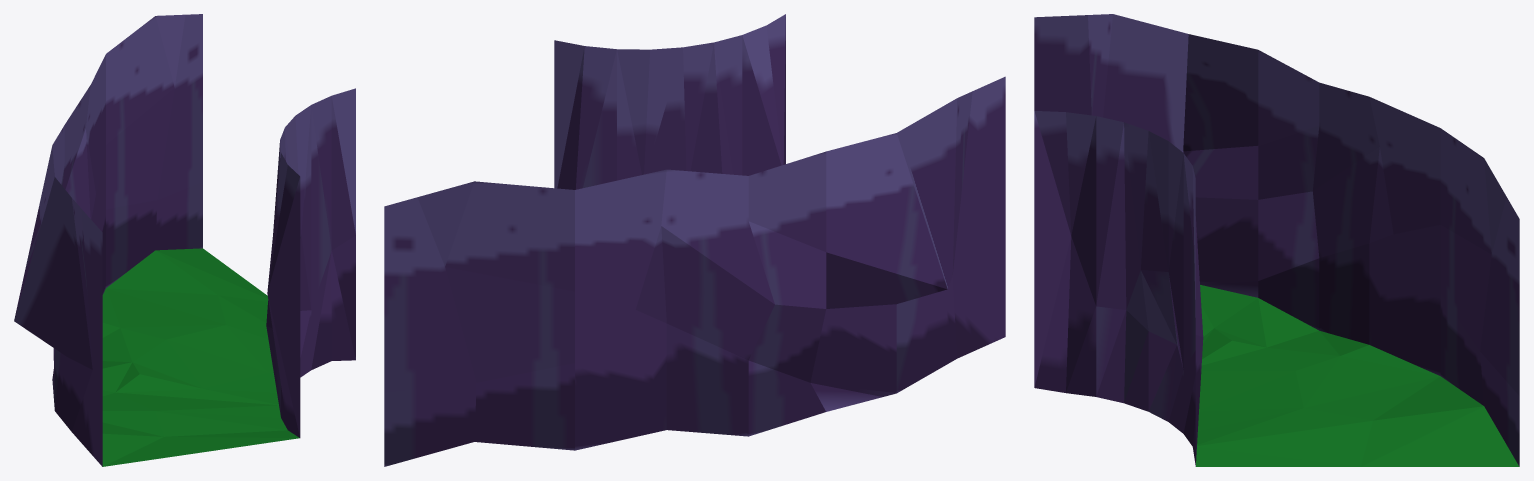
The model's file is Mapa Verde 4.fbx.
3 renders of one model, left to right at view 1: azimuth 30°, elevation 25°; view 2: azimuth 150°, elevation 25°; view 3: azimuth 270°, elevation 25°, orthographic. The views are drawn at different scales.
Visible parts, largest first — view 1: Mapa4; view 2: Mapa4; view 3: Mapa4.
Boxes of the visible parts, x1,y1,x2,y2 form: Mapa4: (14, 14, 355, 466); Mapa4: (384, 14, 1005, 466); Mapa4: (1034, 14, 1519, 466).
Size of the model in its own units: 21108 by 24080 by 15773.
Materials: 2 (1 with a texture image).
